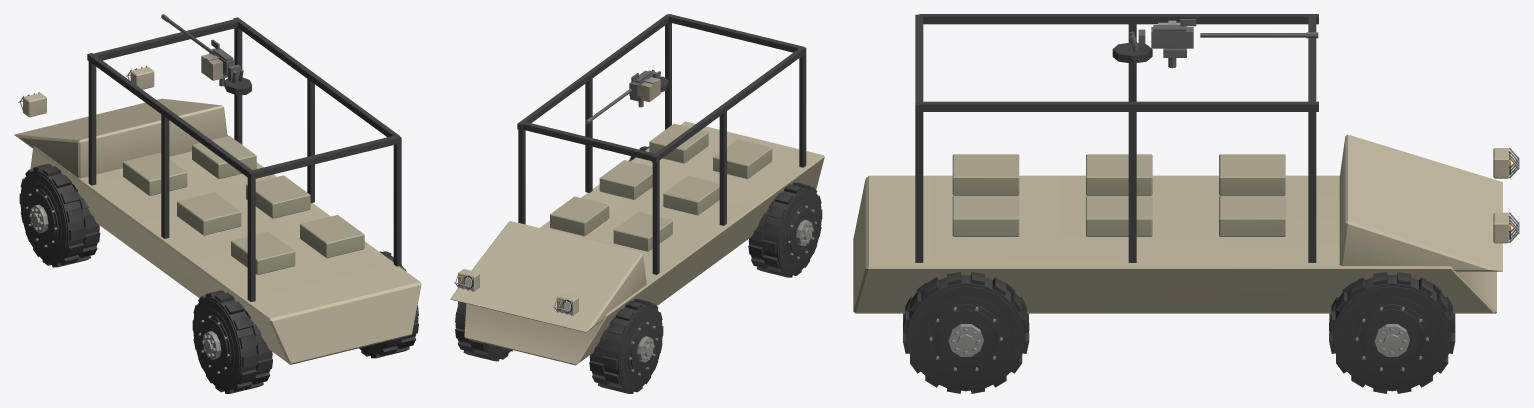
File: rus_lv_patriot.glb
3 views of the same model, side by side, from view 1: azimuth 30°, elevation 25°; view 2: azimuth 150°, elevation 25°; view 3: azimuth 270°, elevation 25° (orthographic). The views are drawn at different scales.
Visible parts, largest first — view 1: body, wheel_0, wheel_2, barrel, wheel_3, turret; view 2: body, wheel_2, wheel_0, barrel, wheel_1; view 3: body, wheel_1, wheel_3, barrel, turret.
Part boxes in pixels (x1,y1,x2,y2): body: (14,17,421,364); wheel_0: (19,164,100,267); wheel_2: (192,290,272,393); barrel: (161,14,243,86); wheel_3: (359,251,418,358); turret: (224,77,251,94); body: (450,14,824,365); wheel_2: (748,182,822,277); wheel_0: (589,299,663,393); barrel: (585,69,660,124); wheel_1: (455,301,512,361); body: (853,14,1519,313); wheel_1: (1329,272,1455,393); wheel_3: (903,272,1029,393); barrel: (1129,19,1318,68); turret: (1112,42,1152,63).
Bounding box in the file's own units: 2.01 × 2.55 × 4.78.
